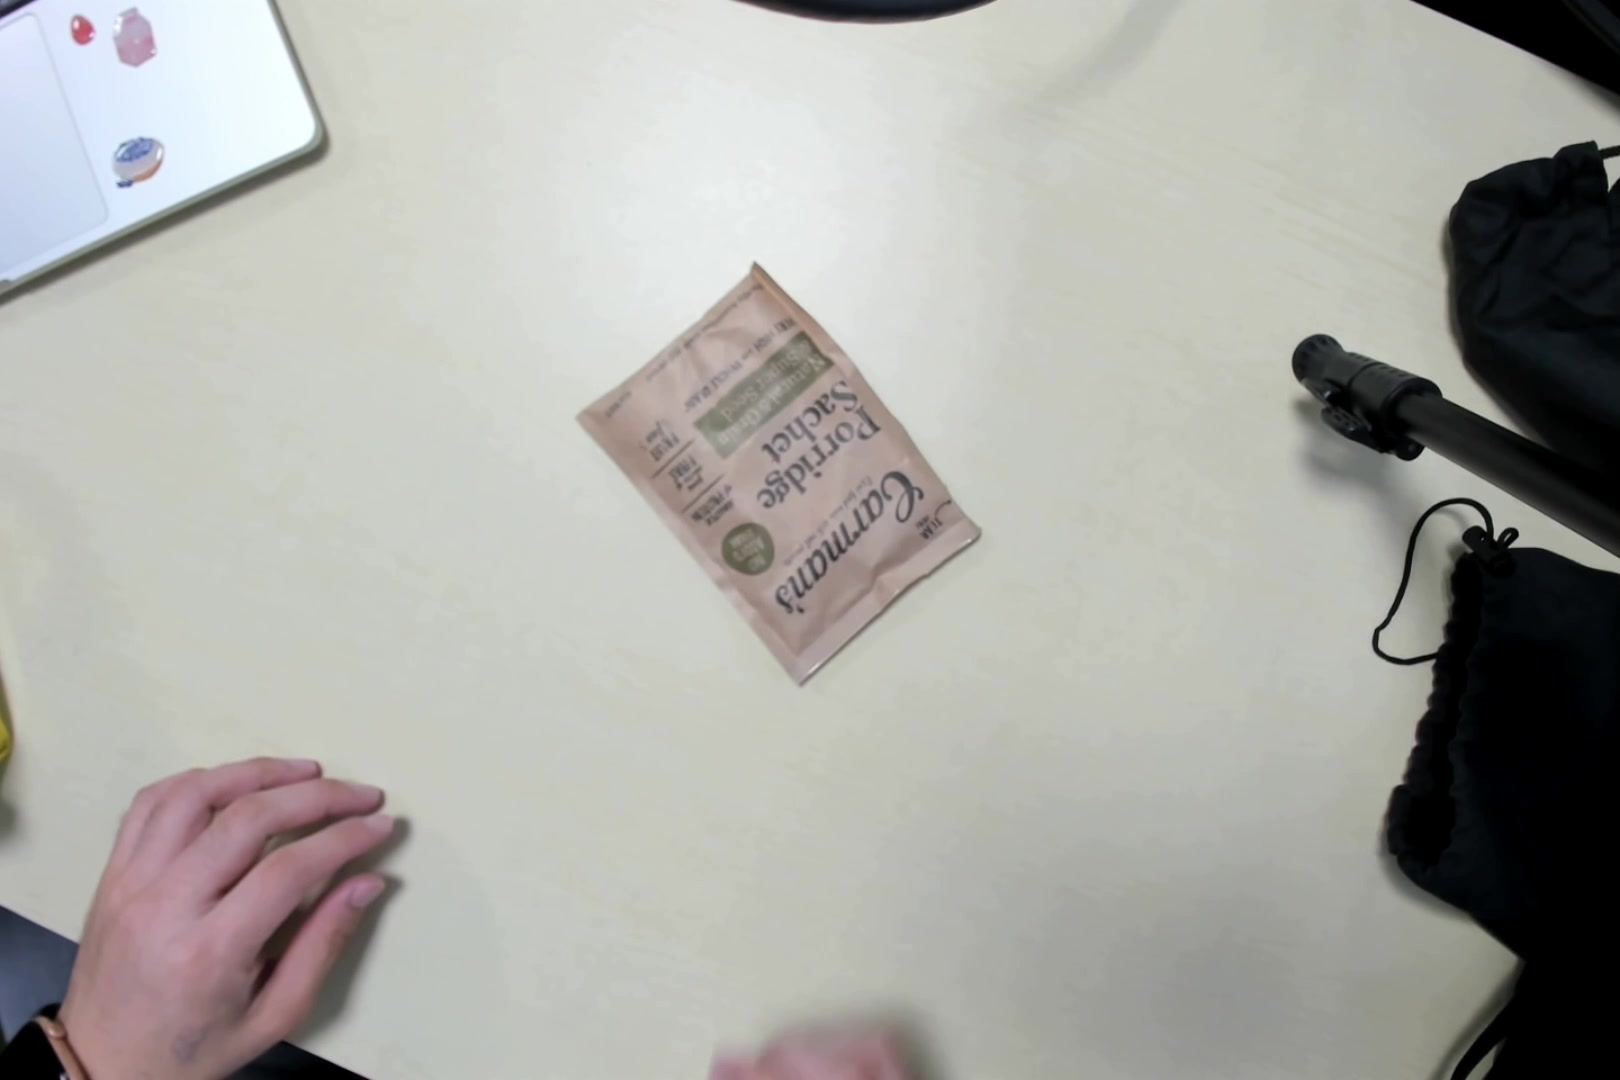InstantMeals_0-99g_NonHalal_NonHealthy: (594, 256, 969, 692)
